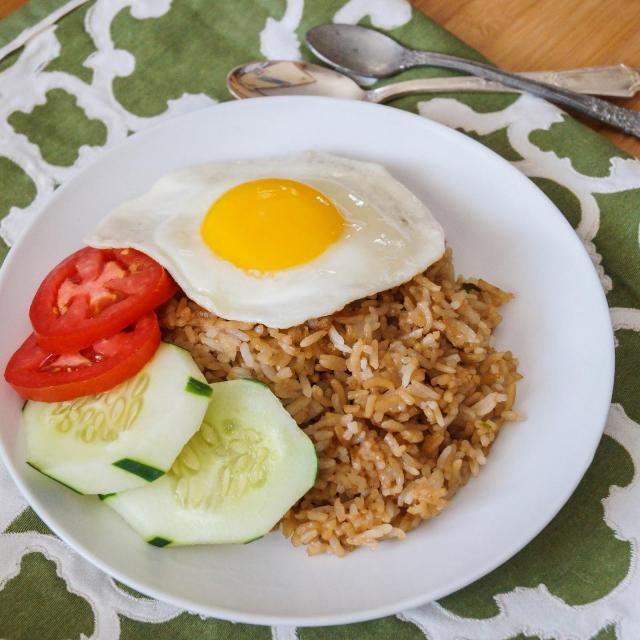Nasi Goreng: (159, 248, 515, 538)
